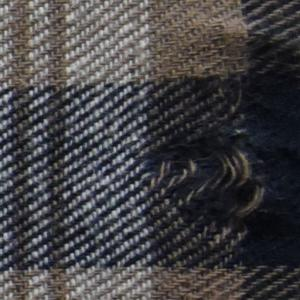Damage: (133, 124, 289, 262)
Wrinkle: (169, 1, 300, 76)
